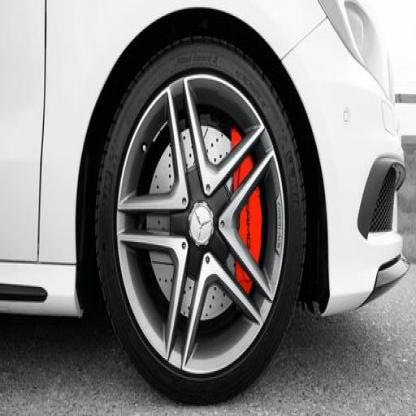Tire: (95, 35, 308, 406)
